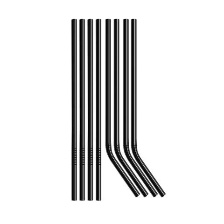drinking_straw: (65, 15, 78, 202)
